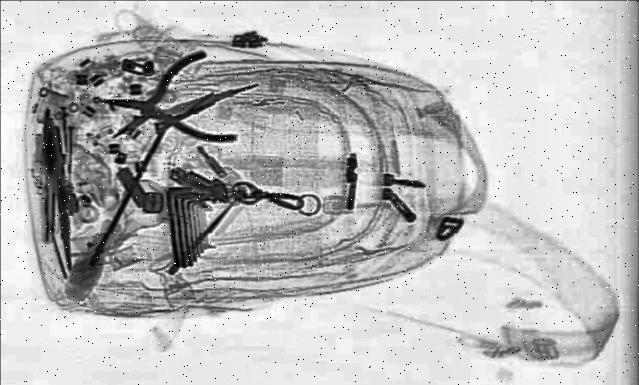Pliers: (75, 50, 261, 160)
